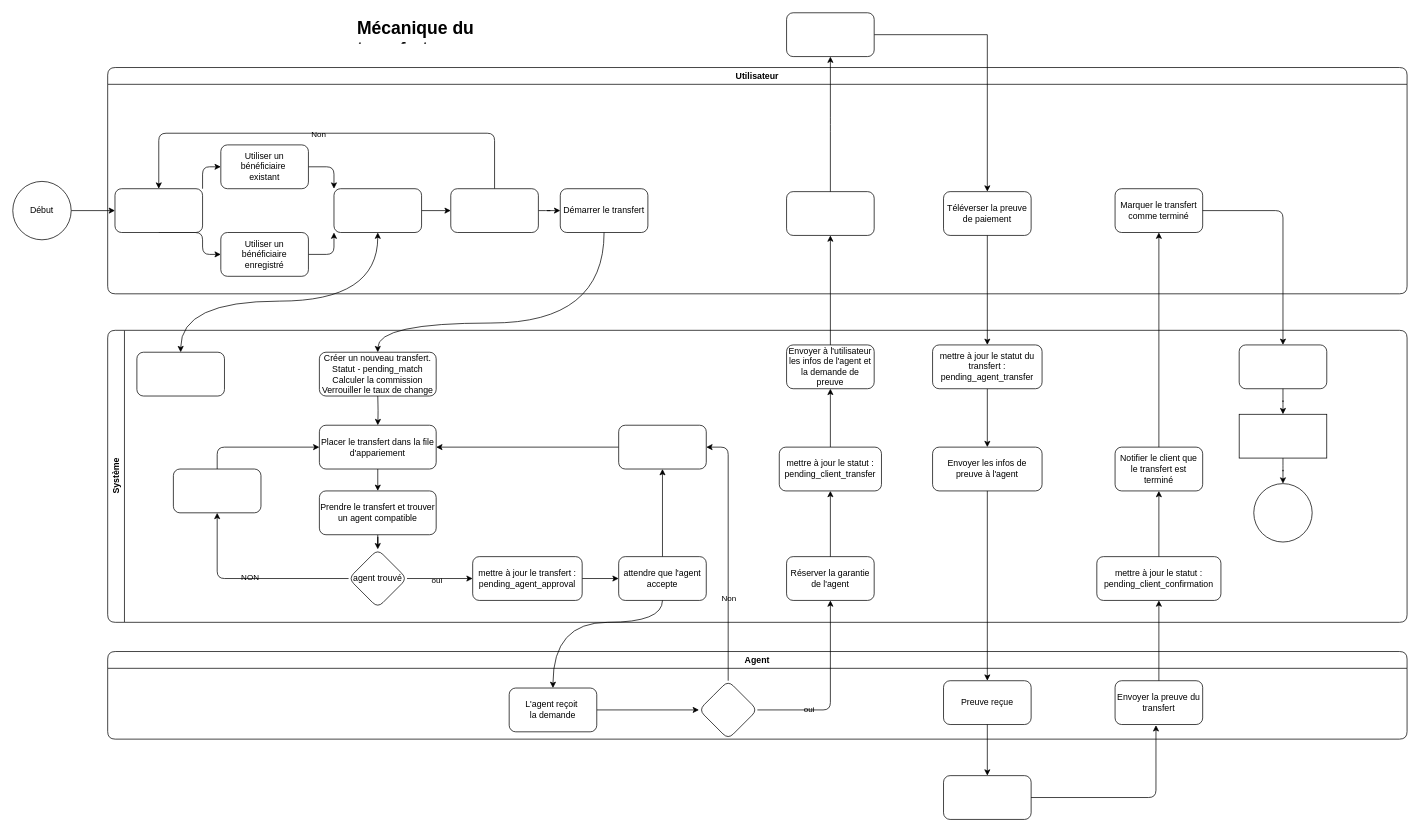
This 1420x832 diagram has some shape labels left out. The centre of each missing label's shape, as x and y in pixels:
"Accepter le devis" goes at [494,210].
"Demander un devis" goes at [377,210].
"Effectuer la transaction hors plateforme" goes at [830,34].
"Effectuer le transfert hors plateforme" goes at [987,797].
"l'agent accepte ?" goes at [727,709].
"l'agent n'a pas accepté ou timeout" goes at [662,446].
"Libérer les fonds de l'agent" goes at [1282,436].
"Mettre le transfert en attente (timeout)" goes at [217,490].
"mettre à jour le statut : done" goes at [1282,366].
"Recevoir les informations de l'agent" goes at [830,213].
"Récupérer le taux de change actuel" goes at [180,373].
"Saisir le montant" goes at [158,210].
"sortie" goes at [1282,512].
